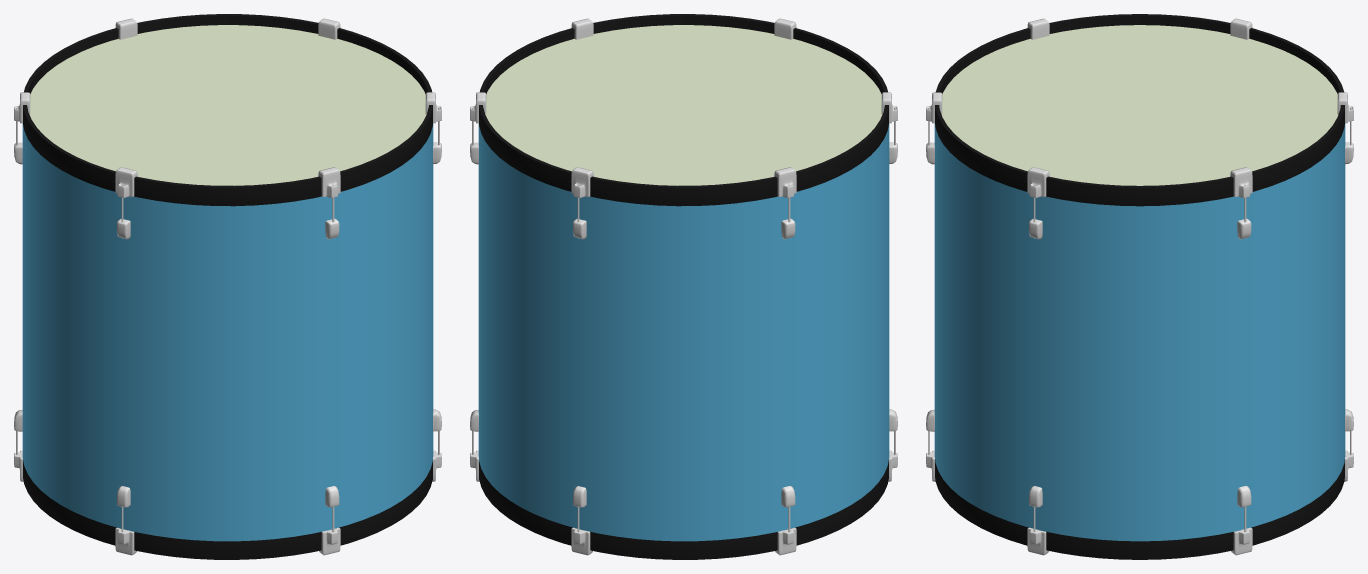
The model's file is Floor Tom.fbx.
The picture shows the model from 3 angles, left to right: view 1: azimuth 30°, elevation 25°; view 2: azimuth 150°, elevation 25°; view 3: azimuth 270°, elevation 25°; orthographic projection.
Parts seen in each view (by area): view 1: Floor Tom; view 2: Floor Tom; view 3: Floor Tom.
Boxes of the visible parts, x1,y1,x2,y2 form: Floor Tom: [14, 14, 441, 559]; Floor Tom: [470, 14, 897, 559]; Floor Tom: [926, 14, 1353, 559].
Bounding box in the file's own units: 40 × 41.01 × 41.66.
